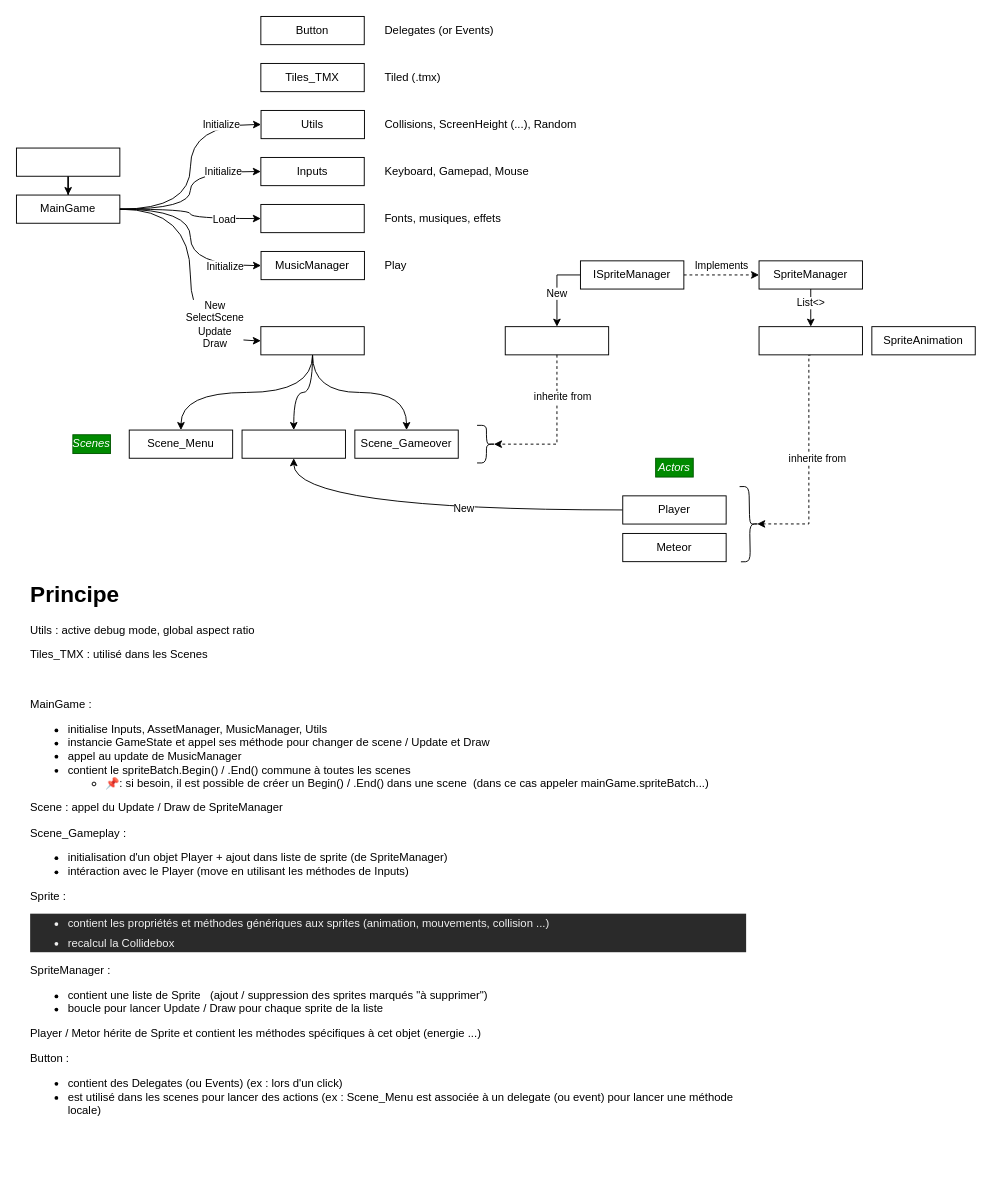
The diagram is 992 pixels wide and 1199 high, and some of its shapes have lost their labels. Each missing label, with the centre of its shape:
AssetManager: point 312,218
GameState: point 312,340
Program: point 68,161
Scene: point 556,340
Scene_Gameplay: point 293,443
Sprite: point 810,340
